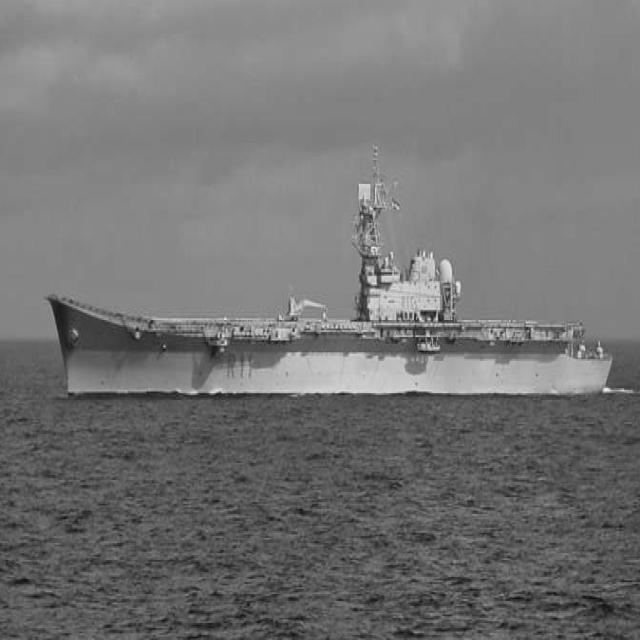Portanaves: (48, 137, 616, 406)
